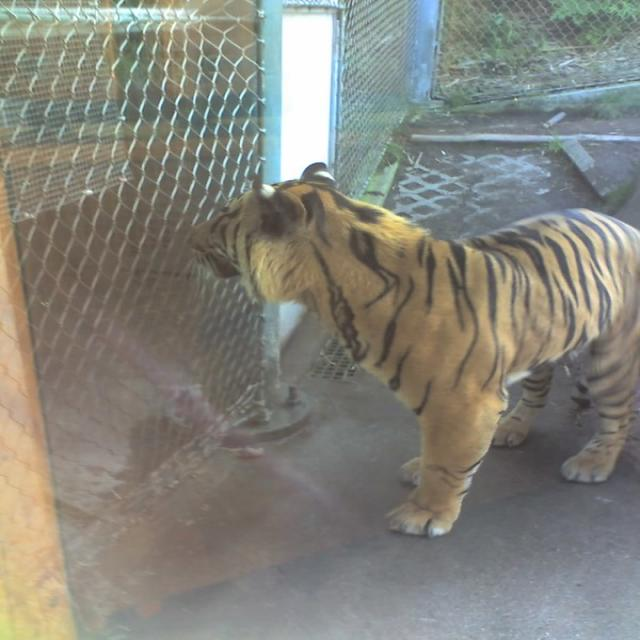Tiger: (193, 160, 635, 536)
